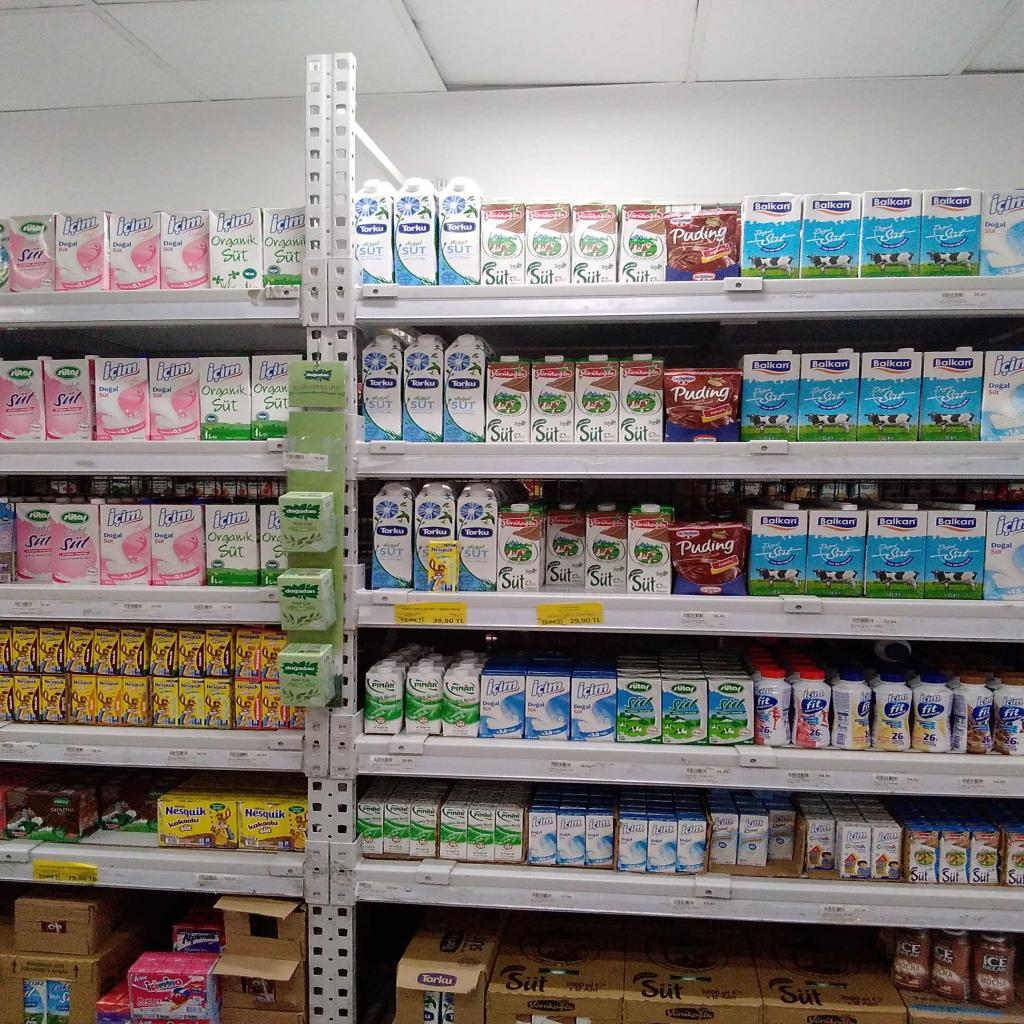price_tag: (394, 602, 467, 625), (33, 860, 99, 884), (536, 603, 603, 626), (548, 760, 608, 779), (357, 881, 406, 901), (940, 289, 991, 308), (283, 452, 330, 472), (958, 777, 1009, 795), (681, 611, 728, 630), (683, 766, 732, 784), (821, 905, 869, 923), (196, 873, 239, 892), (850, 617, 898, 634), (529, 891, 574, 909), (165, 749, 209, 766), (226, 750, 269, 767), (370, 755, 415, 771), (671, 898, 715, 914), (0, 741, 39, 758), (193, 603, 231, 620), (64, 745, 105, 760), (0, 859, 26, 880), (873, 774, 902, 791), (683, 766, 711, 783), (960, 777, 988, 792), (78, 606, 110, 619), (786, 771, 812, 787), (123, 602, 149, 615), (12, 601, 36, 614), (193, 603, 216, 615), (815, 772, 833, 785), (36, 601, 53, 612)
product: (857, 348, 922, 441), (919, 347, 982, 441), (663, 368, 742, 442), (797, 349, 860, 441), (6, 781, 99, 843), (924, 509, 987, 599), (805, 506, 867, 596), (669, 523, 746, 595), (865, 508, 925, 599), (748, 505, 808, 595), (919, 189, 981, 276), (666, 209, 740, 281), (860, 190, 921, 277), (799, 193, 861, 278), (741, 350, 799, 440), (741, 194, 802, 279), (443, 335, 488, 442), (157, 790, 238, 849), (413, 482, 456, 591), (395, 178, 438, 285), (94, 357, 149, 440), (205, 504, 260, 586), (439, 178, 481, 284), (101, 774, 175, 834), (457, 483, 498, 591), (402, 335, 443, 442), (372, 482, 413, 589), (199, 356, 251, 440), (361, 335, 402, 441), (627, 503, 674, 595), (151, 505, 205, 585), (210, 207, 262, 290), (497, 503, 545, 592), (150, 357, 200, 441), (251, 355, 301, 439), (43, 358, 94, 440), (56, 211, 108, 291), (353, 179, 393, 283), (101, 504, 151, 585), (109, 212, 160, 290), (239, 795, 308, 852), (480, 655, 527, 738), (618, 202, 666, 283), (619, 354, 663, 442), (485, 356, 530, 442), (5, 215, 55, 292), (570, 203, 618, 283), (531, 356, 575, 443), (52, 504, 99, 585), (161, 211, 209, 290), (980, 188, 1023, 276), (981, 351, 1023, 441), (616, 658, 661, 742), (570, 662, 617, 742), (575, 356, 618, 443), (526, 201, 571, 284), (278, 568, 337, 631), (0, 359, 45, 441), (279, 490, 337, 553), (585, 504, 626, 592), (983, 510, 1023, 600), (525, 659, 570, 739), (279, 642, 335, 706), (482, 201, 525, 284), (262, 208, 306, 287), (544, 505, 585, 588), (405, 656, 445, 734), (663, 673, 707, 743), (912, 676, 952, 752), (953, 676, 992, 753), (708, 677, 752, 745), (16, 503, 52, 584), (755, 668, 792, 746), (289, 360, 347, 409), (364, 662, 403, 734), (872, 679, 911, 751), (442, 662, 479, 737), (832, 680, 871, 749), (794, 681, 831, 749), (259, 504, 288, 585), (995, 676, 1023, 755), (802, 809, 835, 872), (616, 808, 648, 872), (409, 792, 440, 858), (708, 800, 738, 864), (646, 812, 677, 873), (838, 821, 870, 879), (871, 820, 901, 880), (676, 811, 705, 873), (495, 803, 525, 862), (439, 798, 468, 859), (585, 807, 614, 868), (907, 825, 938, 882), (383, 790, 410, 855), (528, 805, 557, 865), (467, 800, 495, 862), (357, 790, 383, 856), (737, 811, 768, 866), (557, 807, 585, 866), (939, 828, 969, 883), (117, 627, 151, 675), (427, 540, 458, 591), (970, 828, 998, 883), (767, 808, 795, 862), (204, 628, 233, 677), (204, 678, 232, 728), (234, 678, 262, 728), (91, 627, 120, 675), (234, 629, 262, 678), (151, 677, 179, 726), (37, 625, 66, 672), (64, 625, 93, 672), (12, 673, 40, 721), (177, 629, 205, 677), (69, 673, 95, 723), (178, 677, 204, 727), (40, 674, 66, 723), (151, 629, 178, 676), (262, 678, 287, 728), (12, 624, 38, 672), (96, 676, 121, 725), (262, 631, 287, 679), (1002, 830, 1023, 886), (0, 623, 13, 672), (0, 674, 13, 721), (282, 706, 306, 730)
